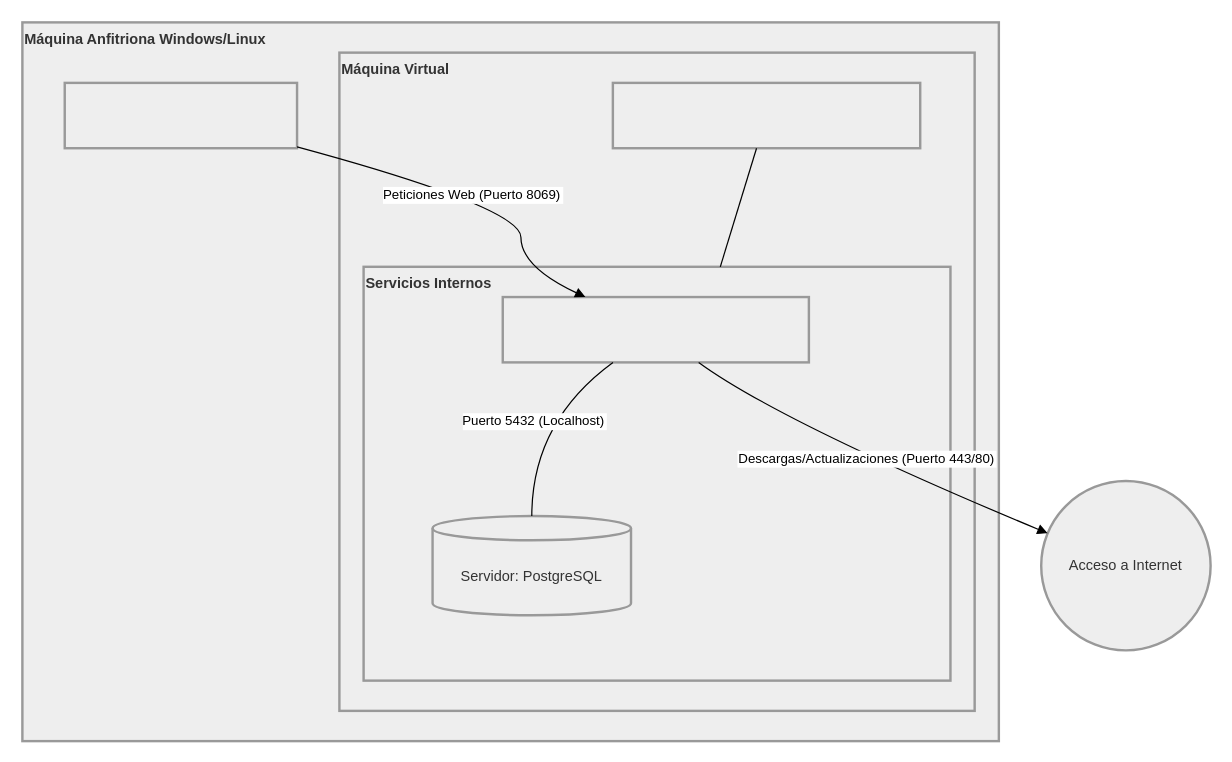
This 1232x762 diagram has some shape labels left out. The shapes that lost their labels are listed below. From the top down, each one's centre as x and y in pixels, then its label:
pixel 180 115: Navegador Cliente
pixel 766 115: SO Invitado: Ubuntu Server
pixel 655 329: Servicio ERP-CRM: Odoo 18
